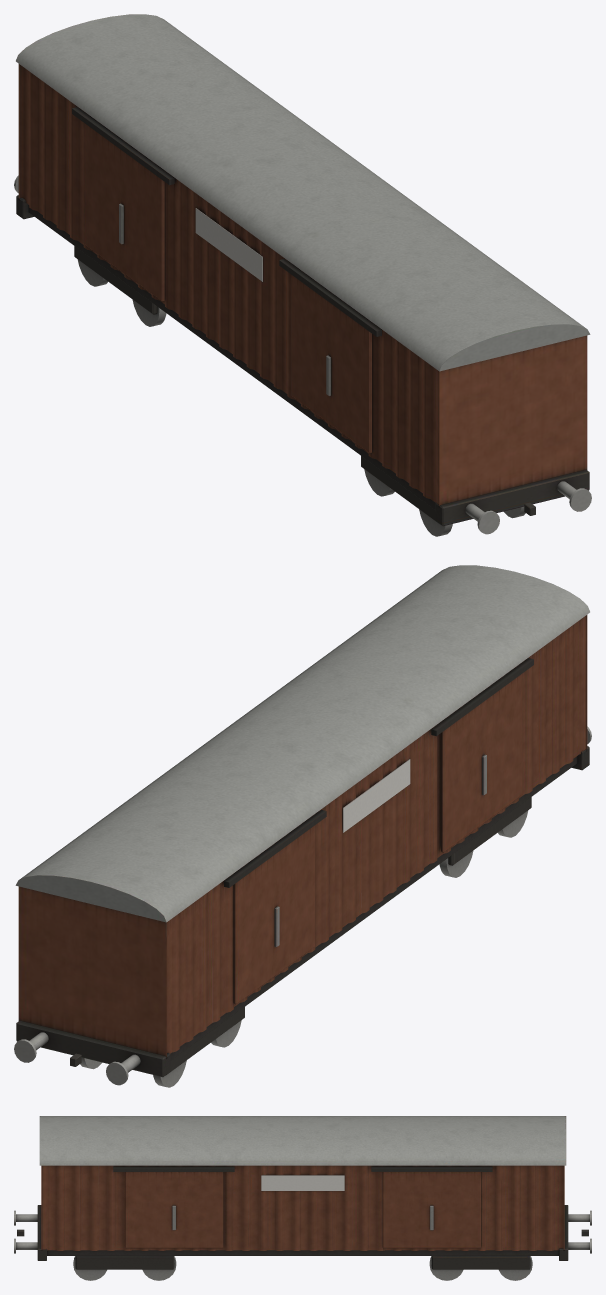
File: wagon_red.glb
3 views of the same model, one above another, from view 1: azimuth 30°, elevation 25°; view 2: azimuth 150°, elevation 25°; view 3: azimuth 270°, elevation 25° (orthographic). The views are drawn at different scales.
Visible parts, largest first — view 1: wagon_red; view 2: wagon_red; view 3: wagon_red.
Part boxes in pixels (left/top/right/bottom): wagon_red: left=14, top=14, right=591, bottom=536; wagon_red: left=14, top=565, right=591, bottom=1087; wagon_red: left=14, top=1116, right=591, bottom=1280.
Bounding box in the file's own units: 3 × 4.05 × 15.25.
1 material, 1 textured.
